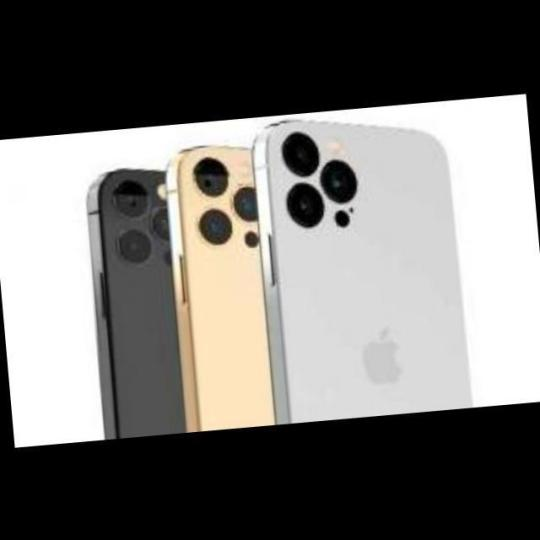phone: (250, 120, 479, 423), (170, 145, 279, 444), (79, 166, 191, 439)
